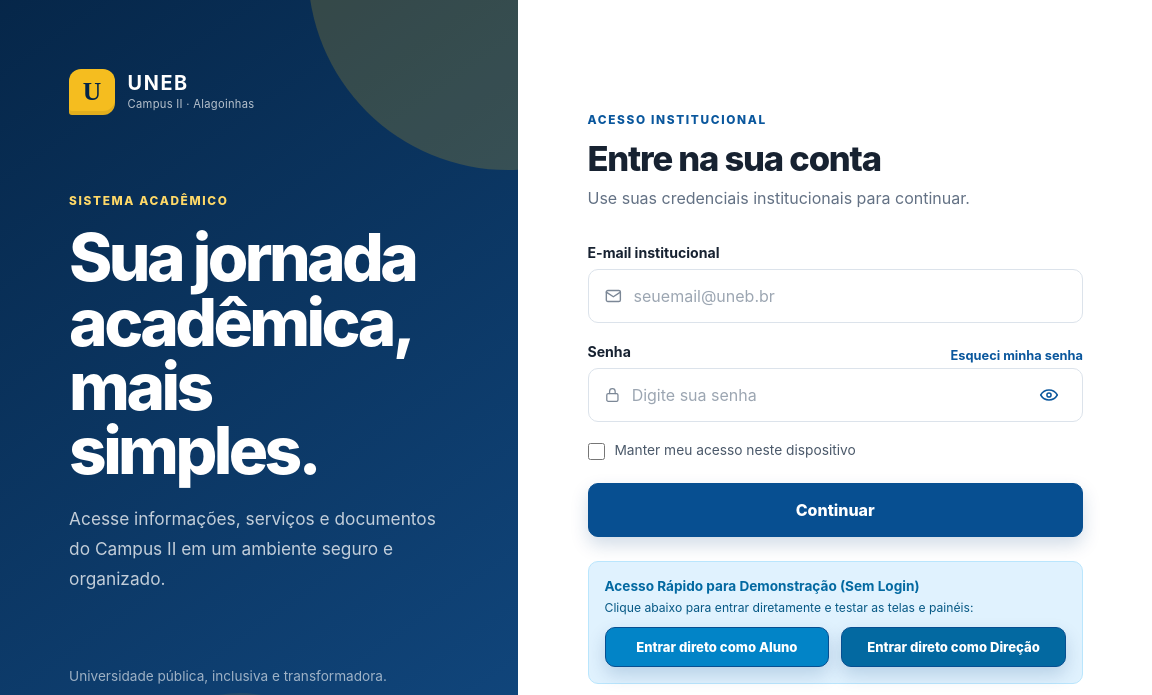
fluxo de autenticação › não autentica quando o servidor falha (404)
Expected: the button "Continuar" is enabled, [588, 483, 1083, 537]
Type "admin@uneb.br" into the field labelled "E-mail institucional". click: (850, 296)
box: [634, 271, 1067, 321]
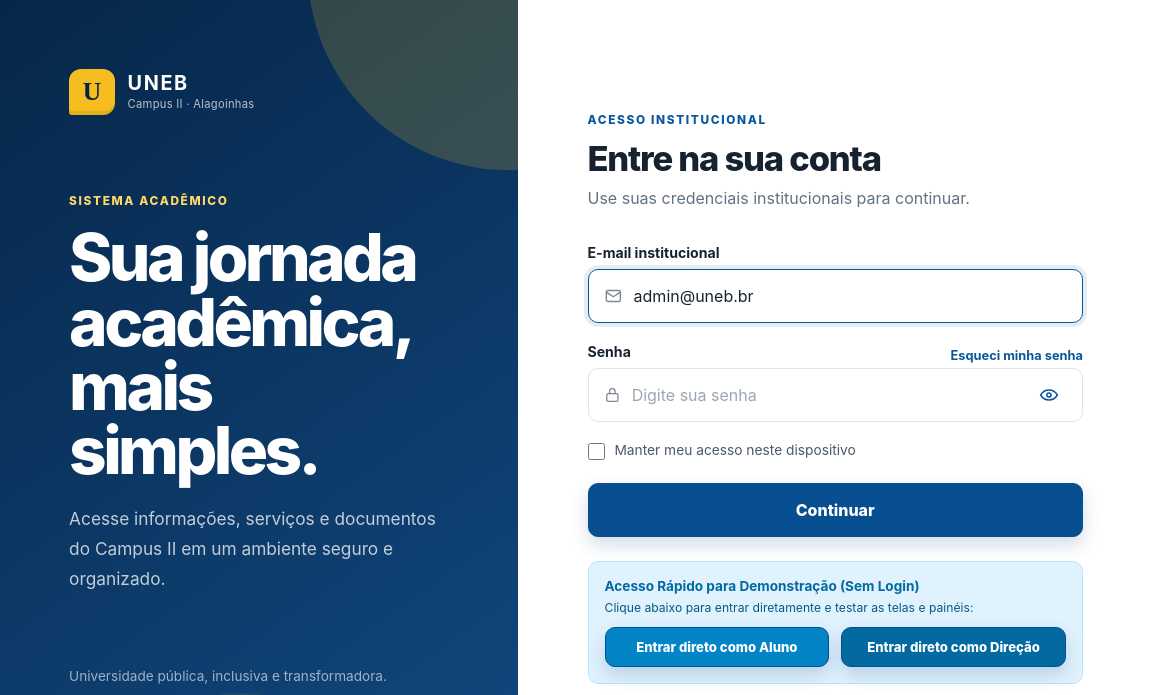
Type "123456" into the password field labelled "Senha". click: (826, 395)
box: [632, 370, 1020, 420]
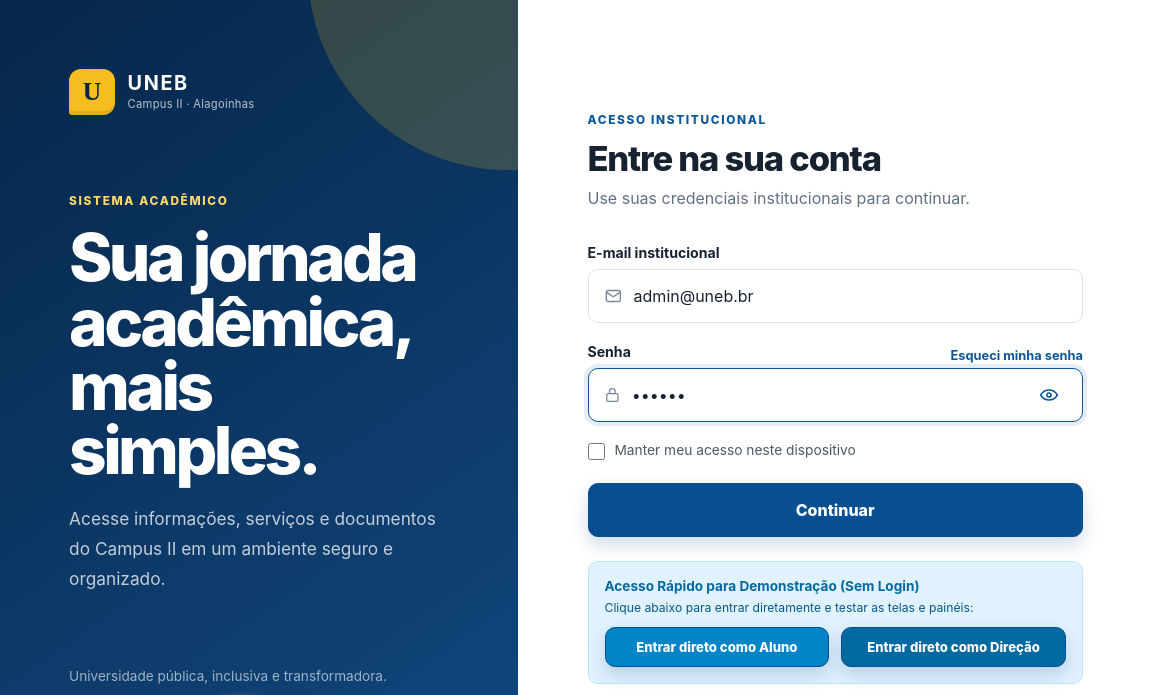
Click the button "Continuar". click: (835, 510)
box: [588, 483, 1083, 537]
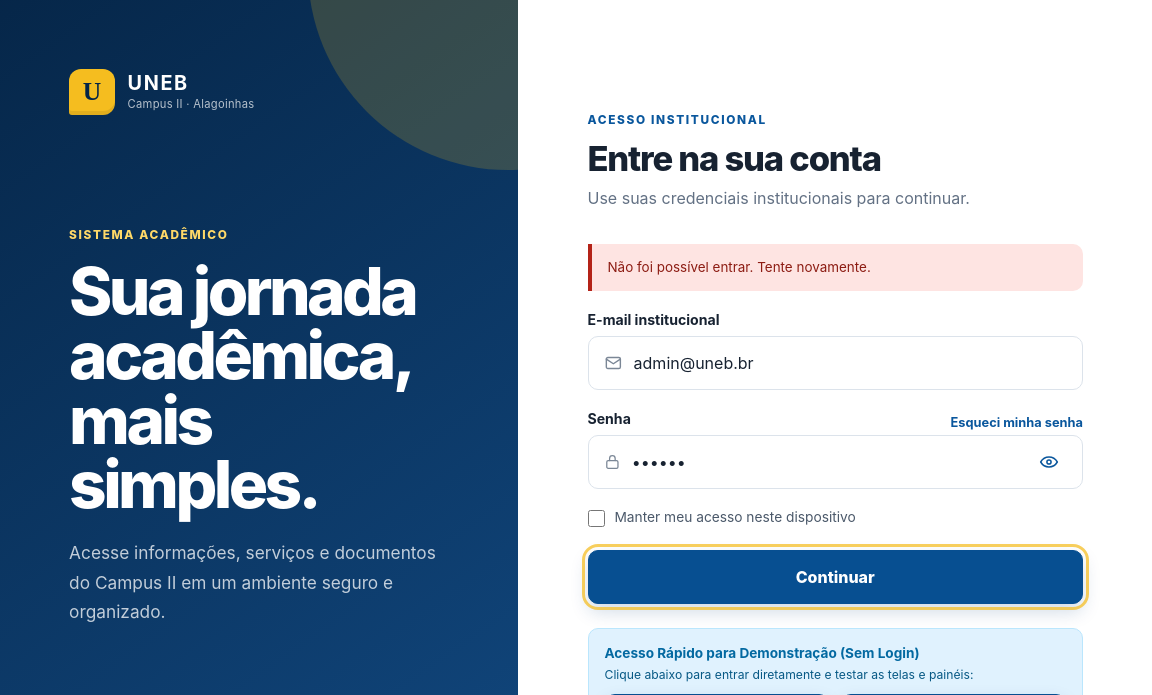
Expected: the message "Não foi possível entrar. Tente novamente." is shown, [588, 244, 1083, 291]
